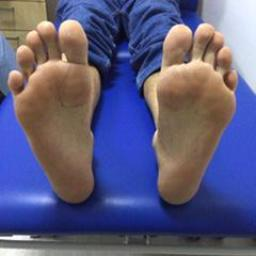Plantar View -Both Feet-: (3, 8, 241, 216)
